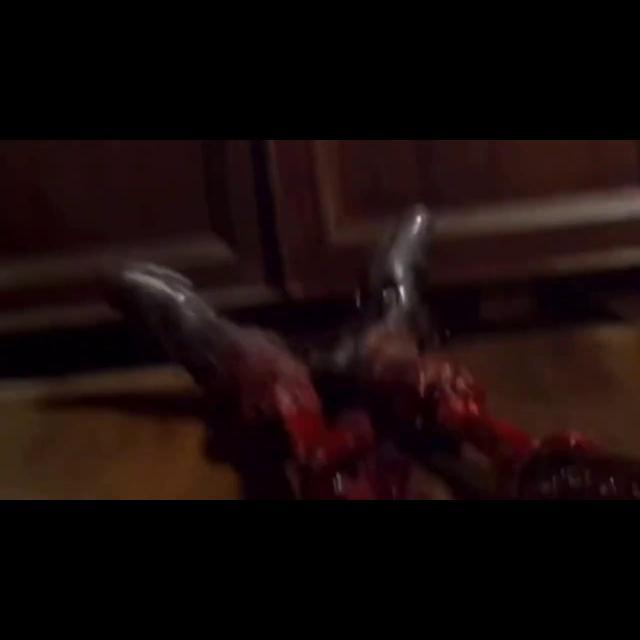blood: (184, 317, 640, 500)
